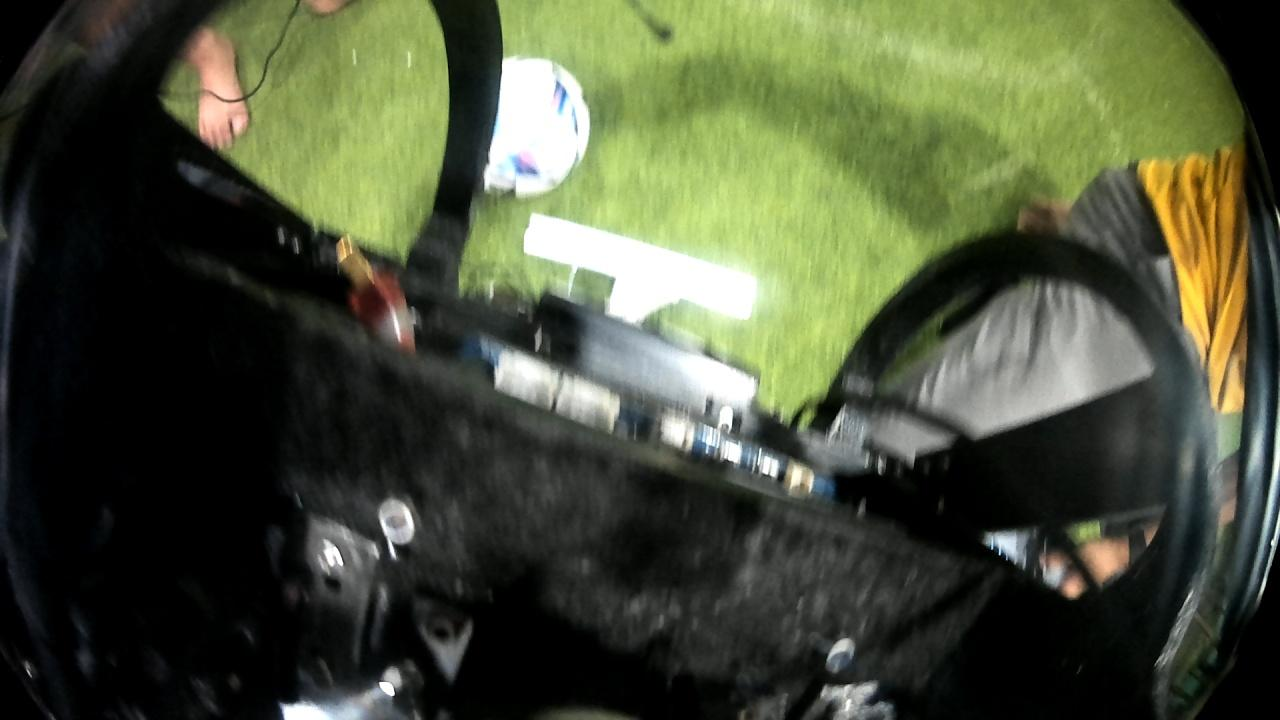ball: (457, 51, 593, 203)
